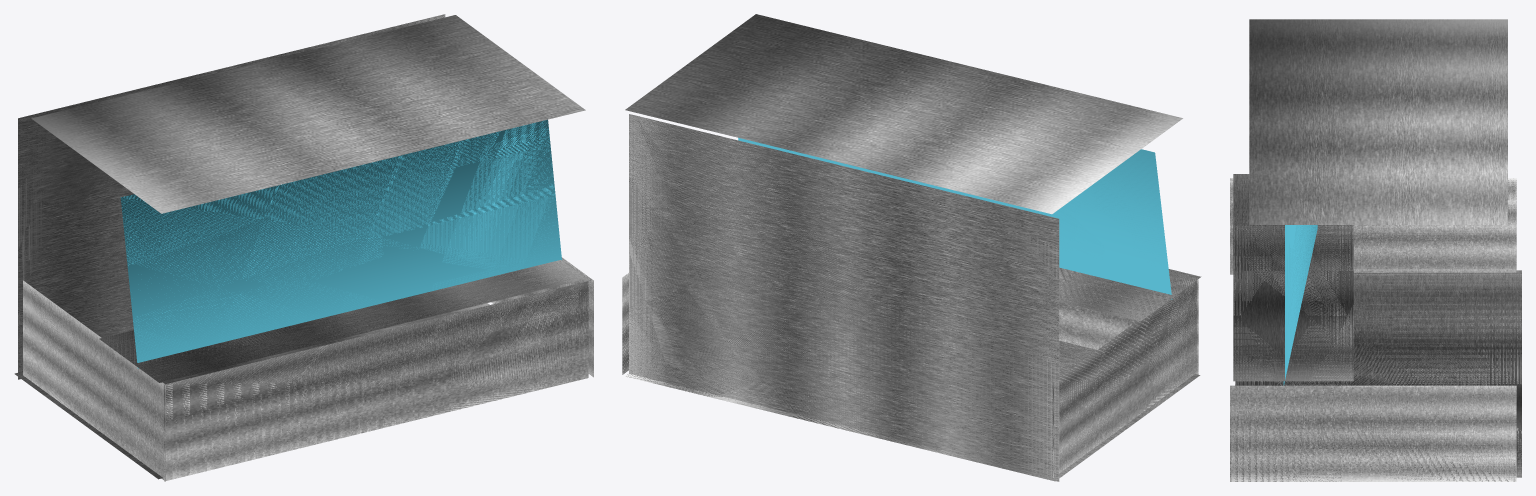
The model's file is PuestoTacos1.obj.
3 renders of one model, left to right at view 1: azimuth 30°, elevation 25°; view 2: azimuth 150°, elevation 25°; view 3: azimuth 270°, elevation 25°, orthographic.
Parts seen in each view (by area): view 1: Box008, Box003, Box007, Box002, Box005, Box004, Box001, Box006; view 2: Box002, Box003, Box005, Box008, Box004, Box001, Box007, Box006; view 3: Box003, Box006, Box001, Box004, Box005, Box008.
Part boxes in pixels (bbox=[...]): Box008: bbox=[120, 119, 561, 368]; Box003: bbox=[31, 15, 585, 213]; Box007: bbox=[164, 281, 588, 481]; Box002: bbox=[18, 14, 445, 379]; Box005: bbox=[23, 280, 165, 481]; Box004: bbox=[99, 260, 586, 382]; Box001: bbox=[14, 303, 489, 479]; Box006: bbox=[491, 257, 593, 377]; Box002: bbox=[629, 114, 1059, 481]; Box003: bbox=[625, 14, 1182, 214]; Box005: bbox=[1053, 280, 1197, 477]; Box008: bbox=[738, 137, 1172, 299]; Box004: bbox=[1059, 267, 1201, 321]; Box001: bbox=[625, 341, 1200, 481]; Box007: bbox=[1059, 279, 1198, 374]; Box006: bbox=[622, 273, 628, 374]; Box003: bbox=[1249, 19, 1507, 224]; Box006: bbox=[1230, 385, 1516, 481]; Box001: bbox=[1235, 270, 1521, 477]; Box004: bbox=[1233, 174, 1353, 381]; Box005: bbox=[1230, 178, 1516, 274]; Box008: bbox=[1283, 225, 1317, 385].
Size of the model in its own units: 77.82 by 44.73 by 45.57.
